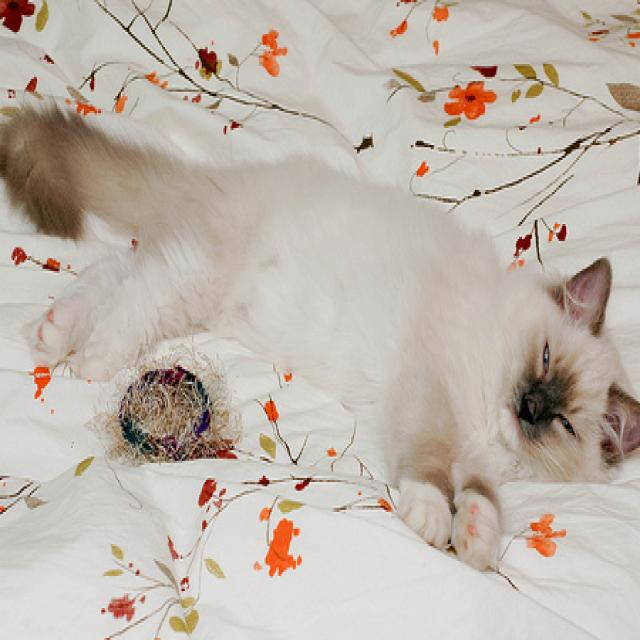Ragdoll: (0, 92, 640, 578)
